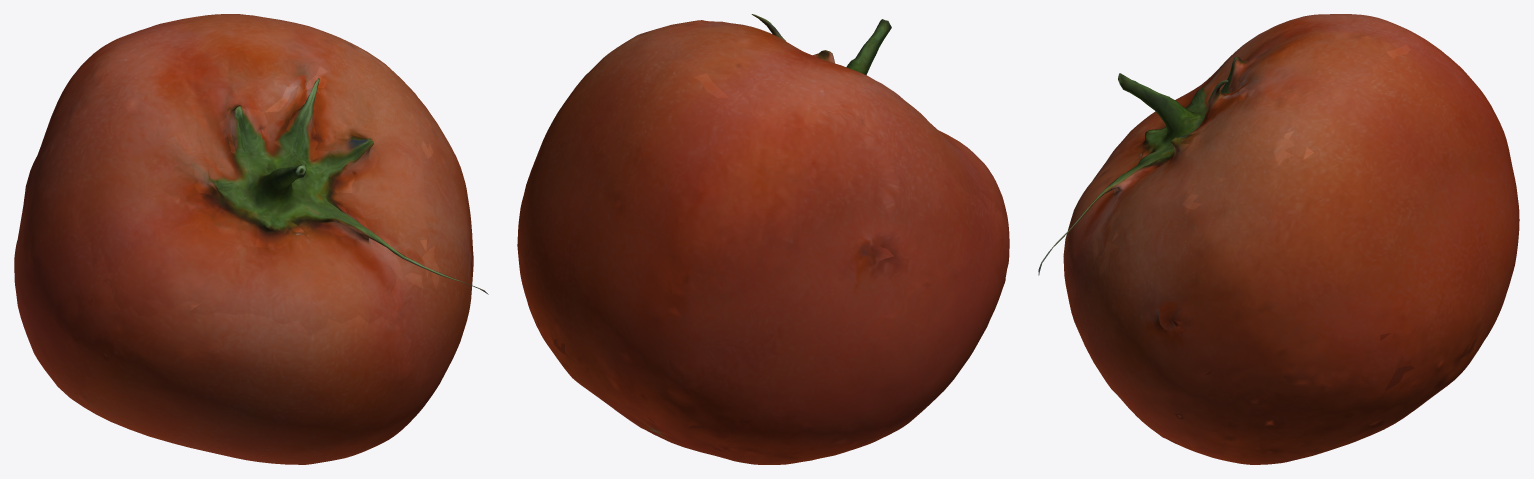
Rendered from tomatoe.obj.
3 views of the same model, side by side, from view 1: azimuth 30°, elevation 25°; view 2: azimuth 150°, elevation 25°; view 3: azimuth 270°, elevation 25° (orthographic). The views are drawn at different scales.
Parts seen in each view (by area): view 1: pomidor_1_model.001; view 2: pomidor_1_model.001; view 3: pomidor_1_model.001.
Part boxes in pixels (<box>): pomidor_1_model.001: <box>14,14,488,464</box>; pomidor_1_model.001: <box>517,14,1009,464</box>; pomidor_1_model.001: <box>1038,14,1519,464</box>.
Bounding box in the file's own units: 0.0895 × 0.0843 × 0.0935.
Materials: 1 (1 with a texture image).
